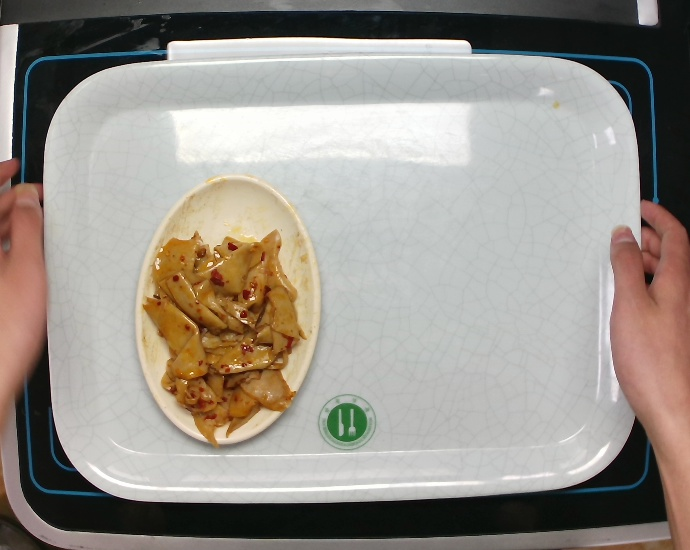JYsf-Tuo_Yuan_Wan: (132, 173, 322, 447)
